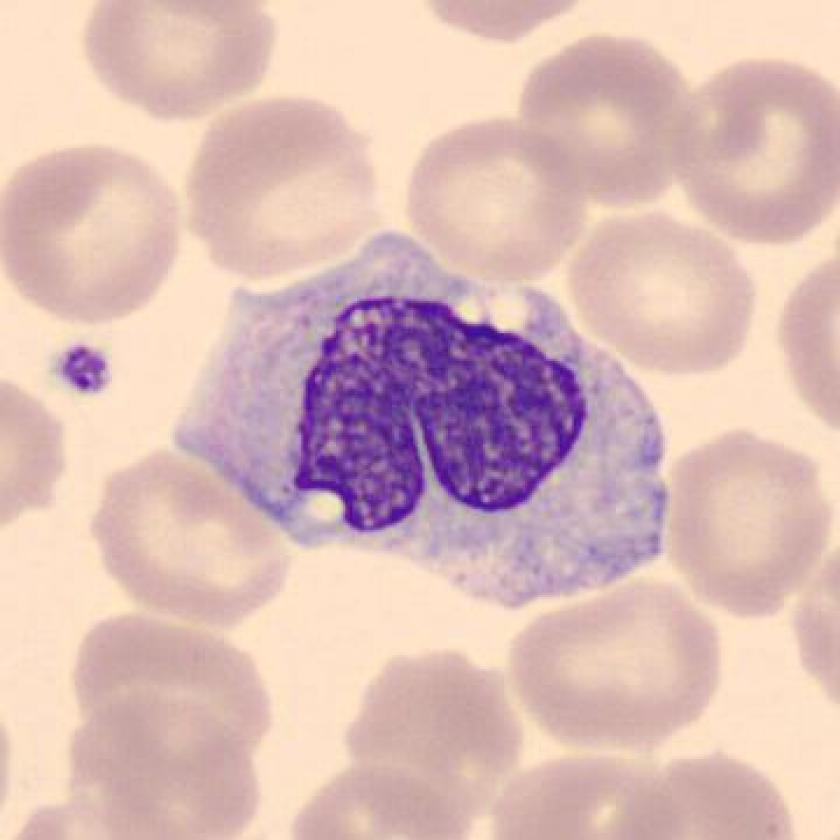monocyte: (157, 205, 687, 635)
